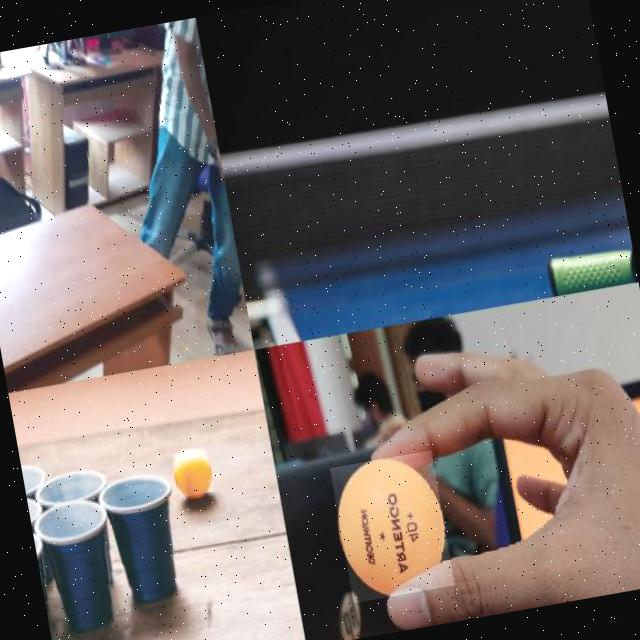ping-pong-ball: (328, 449, 454, 604), (170, 447, 213, 499)
